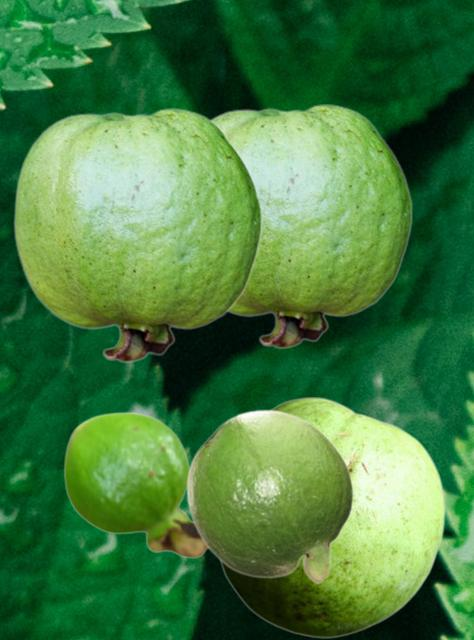guava: (13, 108, 262, 362), (219, 397, 444, 637), (212, 104, 412, 348), (185, 408, 353, 584), (63, 411, 207, 558)
